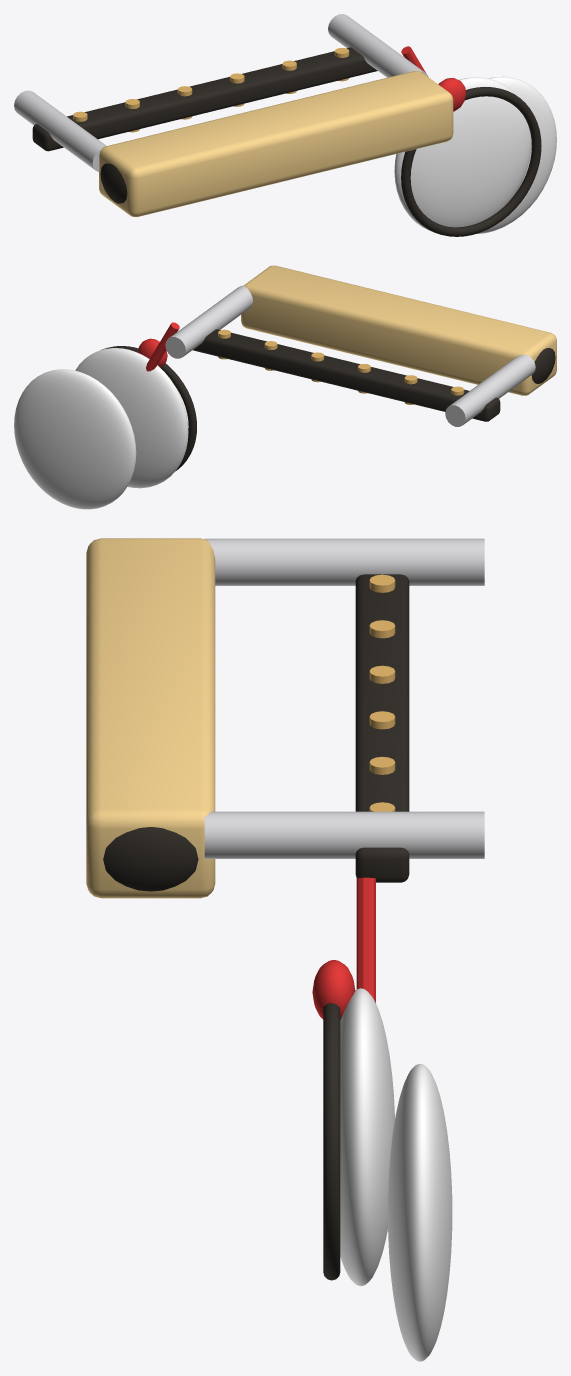
The picture shows the model from 3 angles, top to bottom: view 1: azimuth 30°, elevation 25°; view 2: azimuth 150°, elevation 25°; view 3: azimuth 270°, elevation 25°; orthographic projection. The views are drawn at different scales.
Visible parts, largest first — view 1: bells_castanets_default; view 2: bells_castanets_default; view 3: bells_castanets_default.
Boxes of the visible parts, x1,y1,x2,y2 form: bells_castanets_default: (14, 14, 556, 236); bells_castanets_default: (14, 265, 556, 509); bells_castanets_default: (86, 538, 484, 1361).
Size of the model in its own units: 1.01 by 0.435 by 0.37.
